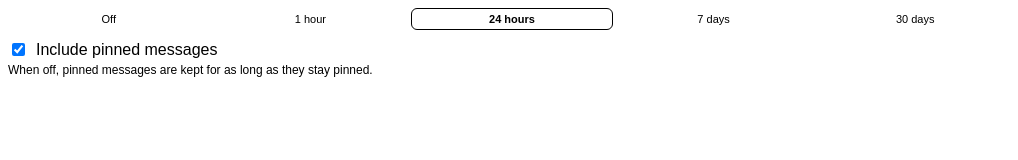
Scenario: Apply routing › OFF-only applies at once: no confirmation, new_only, include_pinned false, behind the same fresh read
This screenshot has width=1018, height=160.
Click the checkbox labelled "Include pinned messages" at (18, 50), box [12, 43, 25, 56]
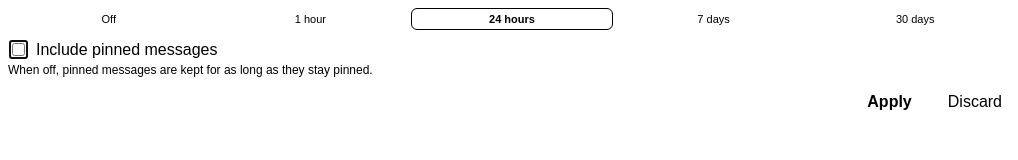
Click the button "Apply" at (890, 102), box [853, 87, 926, 117]
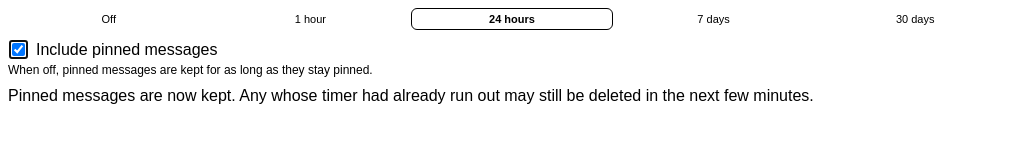
Expected: the text with class "message-expiration-status" shows "Pinned messages are now kept. Any whose timer had already run out may still be deleted in the next few minutes.", [8, 87, 814, 104]
